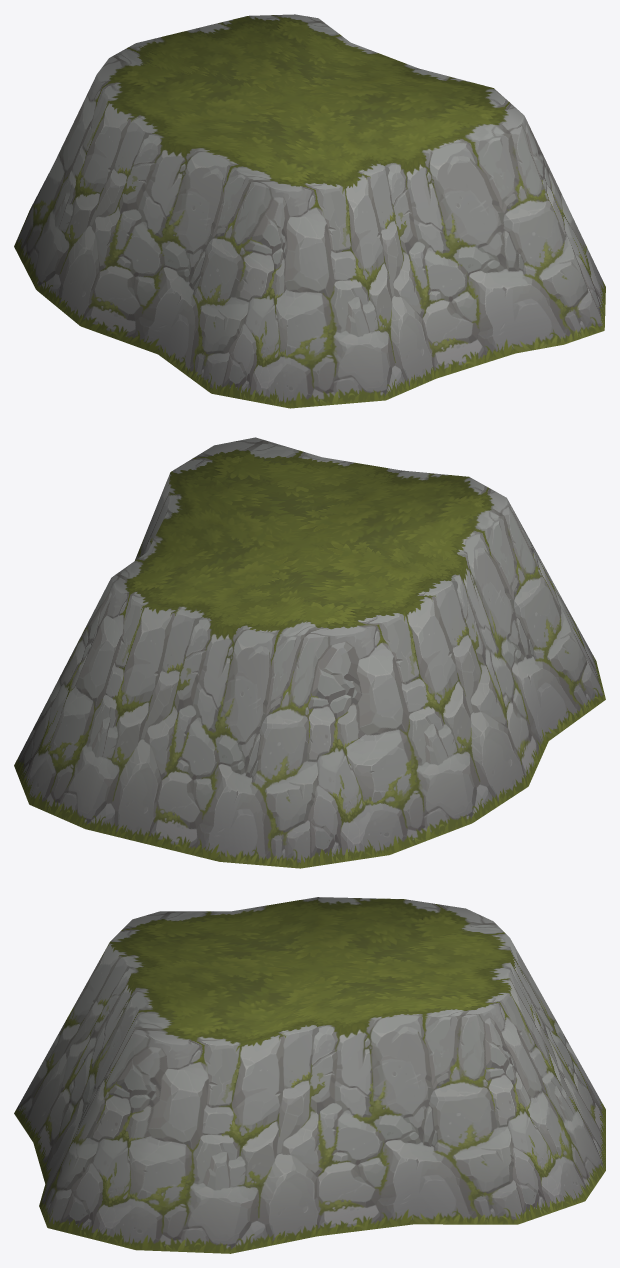
The model's file is Na_Cliff_03.FBX.
The picture shows the model from 3 angles, top to bottom: view 1: azimuth 30°, elevation 25°; view 2: azimuth 150°, elevation 25°; view 3: azimuth 270°, elevation 25°; orthographic projection. The views are drawn at different scales.
Parts seen in each view (by area): view 1: Na_Cliff_03; view 2: Na_Cliff_03; view 3: Na_Cliff_03.
Boxes of the visible parts, <box> form: Na_Cliff_03: <box>14,14,605,408</box>; Na_Cliff_03: <box>14,437,605,868</box>; Na_Cliff_03: <box>14,897,605,1253</box>.
Bounding box in the file's own units: 13.2 × 5 × 15.36.
Materials: 1 (1 with a texture image).
